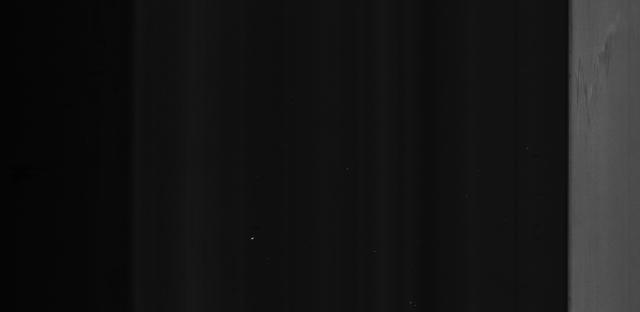silk_spot: (574, 17, 634, 134)
